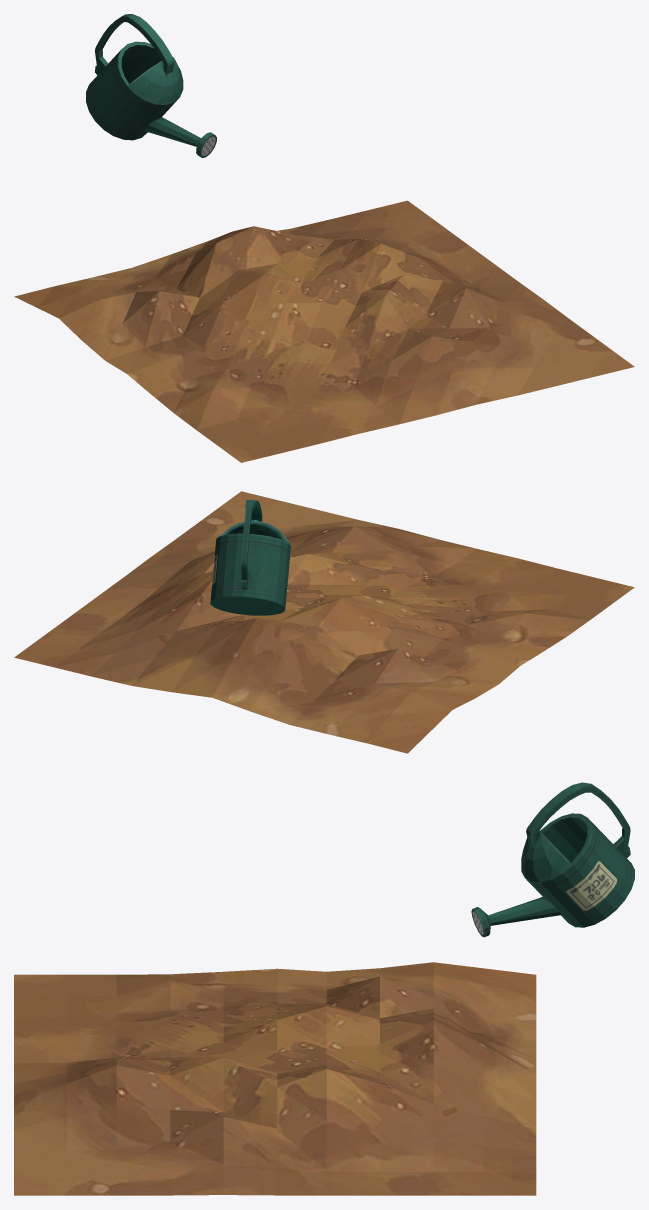
The model's file is P_FlowerPot_010_S1_M02.obj.
3 views of the same model, one above another, from view 1: azimuth 30°, elevation 25°; view 2: azimuth 150°, elevation 25°; view 3: azimuth 270°, elevation 25° (orthographic). The views are drawn at different scales.
Bounding box in the file's own units: 1.9 × 1.07 × 2.25.
2 materials, 2 textured.
